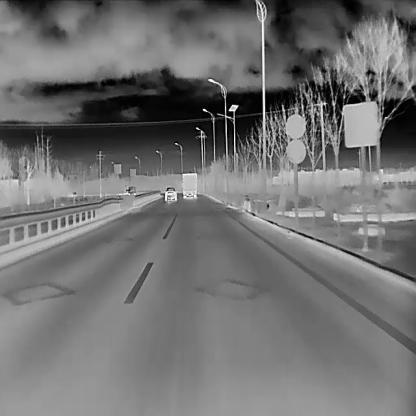car: (180, 172, 197, 199), (163, 186, 178, 201), (126, 185, 136, 196)
